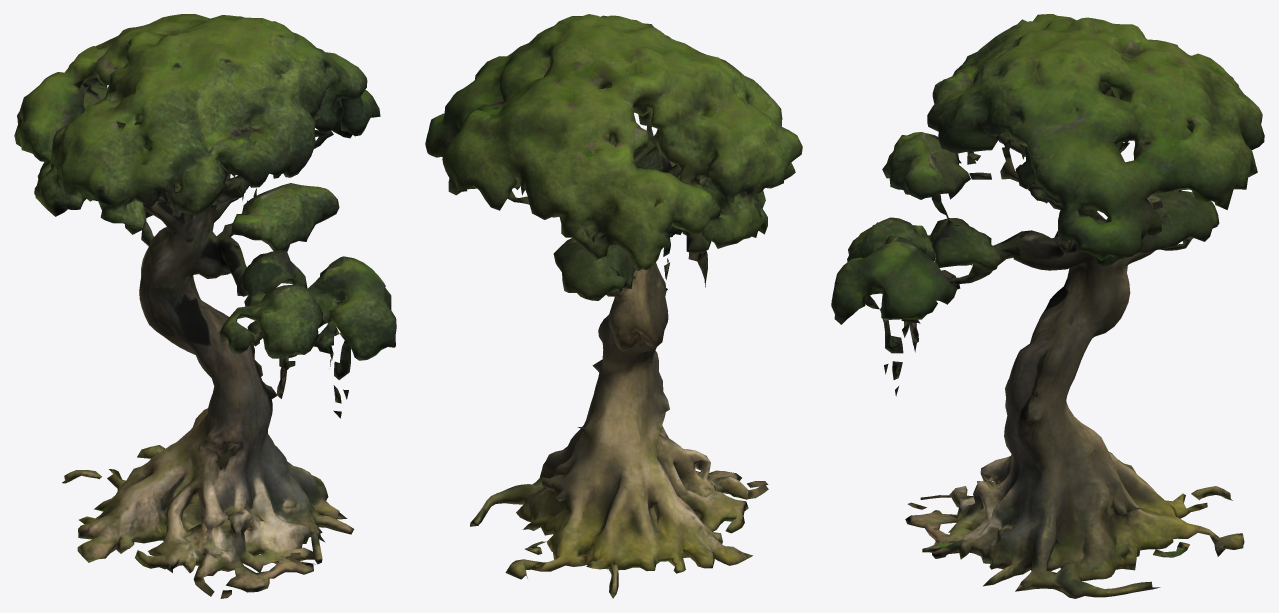
Rendered from tree.glb.
The picture shows the model from 3 angles, left to right: view 1: azimuth 30°, elevation 25°; view 2: azimuth 150°, elevation 25°; view 3: azimuth 270°, elevation 25°; orthographic projection. The views are drawn at different scales.
Bounding box in the file's own units: 1.38 × 1.98 × 1.52.
1 material, 1 textured.
